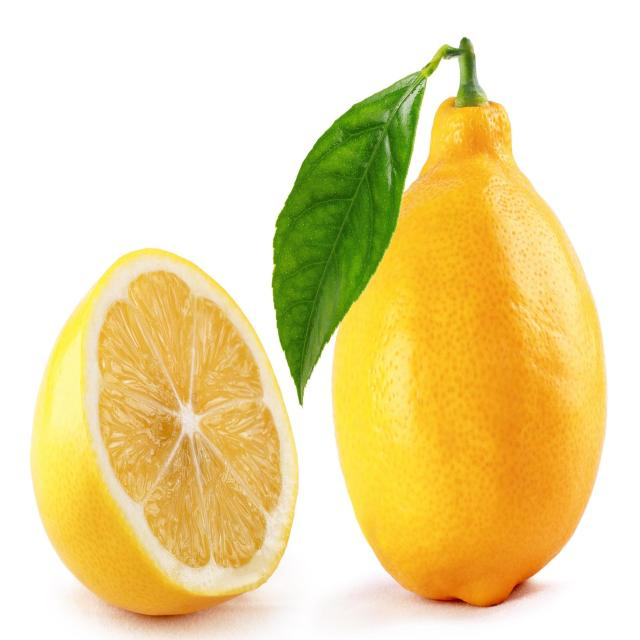lemon: (263, 30, 612, 612), (26, 238, 305, 634)
